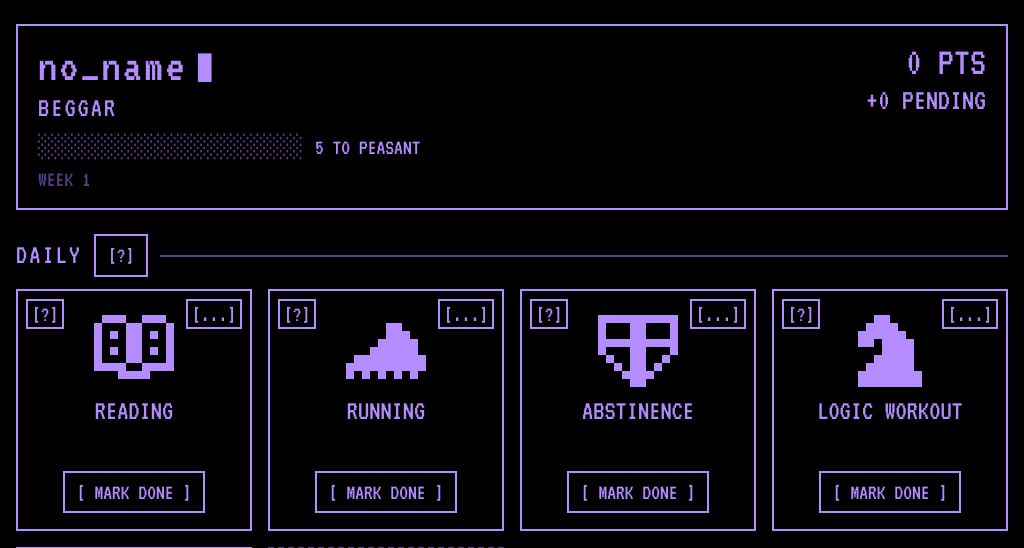
Test: App › explains a section in a popup, closed with Escape, returning focus
Step 1. Click the button named "About DAILY tasks" → (121, 256), box [94, 234, 148, 277]
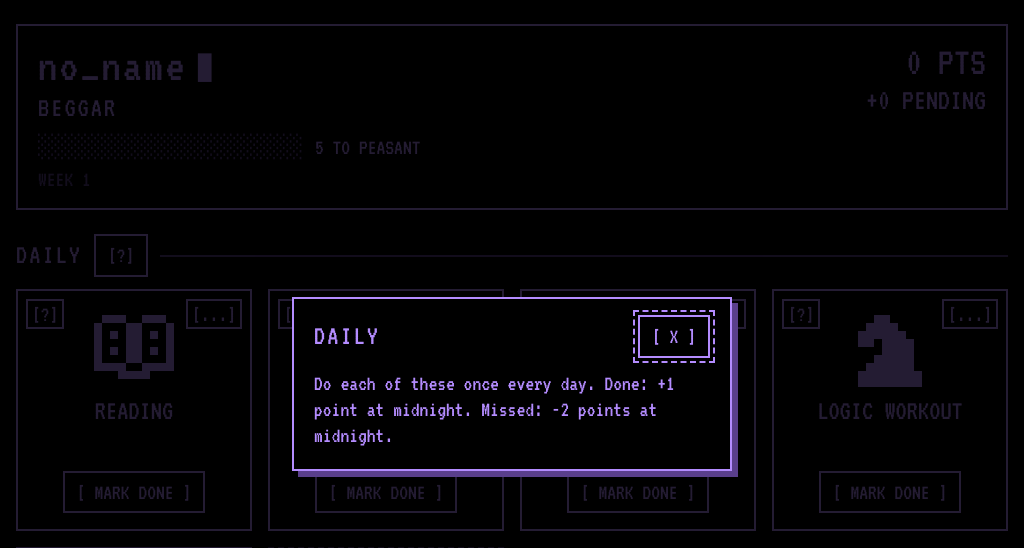
Now the text "Do each of these once every day" is shown, box [314, 372, 675, 446]
Step 2. Press Escape
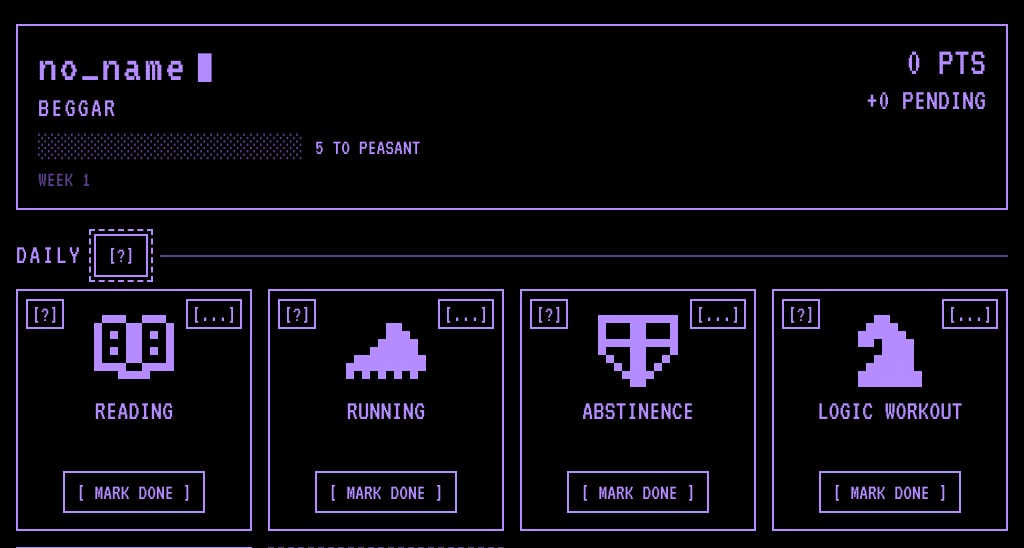
Now the dialog is gone
